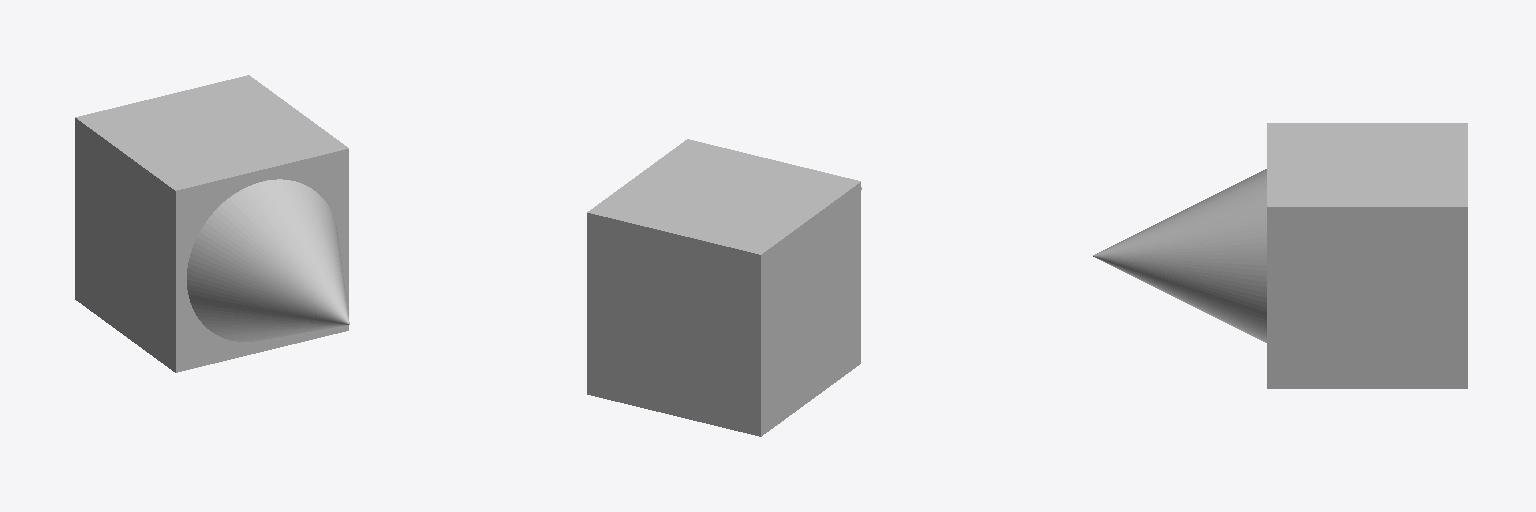
Rendered from cubeCone.obj.
3 views of the same model, side by side, from view 1: azimuth 30°, elevation 25°; view 2: azimuth 150°, elevation 25°; view 3: azimuth 270°, elevation 25° (orthographic).
Visible parts, largest first — view 1: Object.2, Object.1; view 2: Object.2; view 3: Object.2, Object.1.
Boxes of the visible parts, box(x1,y1,x2,y2) form: Object.2: box(75, 75, 348, 372); Object.1: box(187, 179, 349, 341); Object.2: box(587, 139, 860, 436); Object.2: box(1267, 123, 1467, 388); Object.1: box(1093, 169, 1266, 342).
Bounding box in the file's own units: 40 × 40 × 74.81.